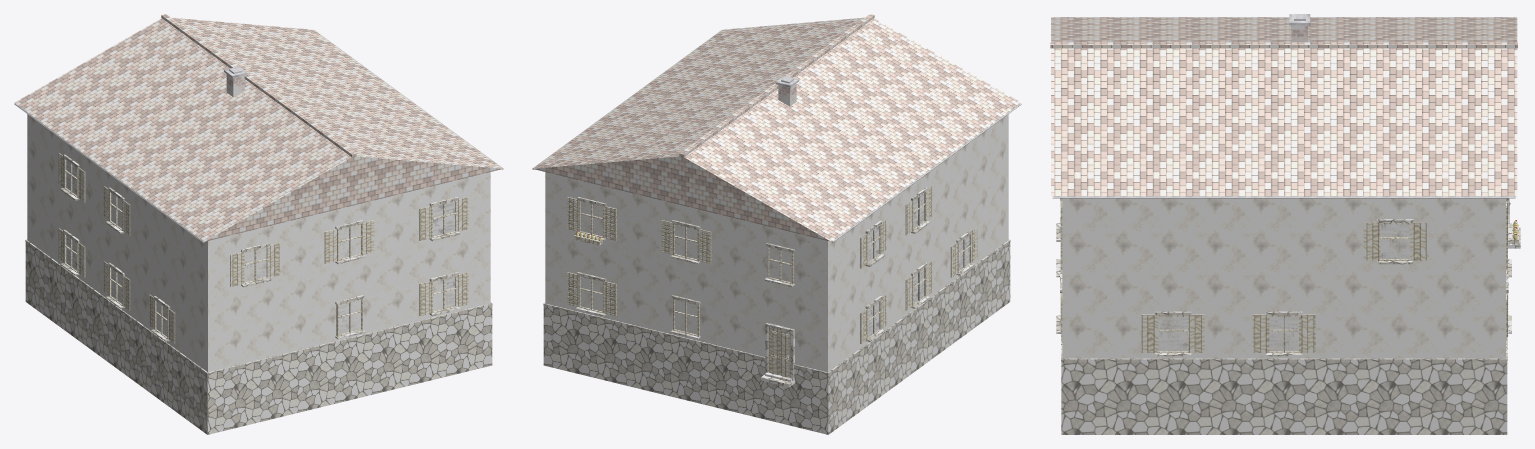
3 views of the same model, side by side, from view 1: azimuth 30°, elevation 25°; view 2: azimuth 150°, elevation 25°; view 3: azimuth 270°, elevation 25° (orthographic). The views are drawn at different scales.
Visible parts, largest first — view 1: b947602167; view 2: b947602167; view 3: b947602167.
Boxes of the visible parts, <box> form: b947602167: <box>14,14,503,434</box>; b947602167: <box>532,14,1021,434</box>; b947602167: <box>1050,14,1520,434</box>.
Bounding box in the file's own units: 12.98 × 10.85 × 14.32.
Materials: 25 (22 with a texture image).
